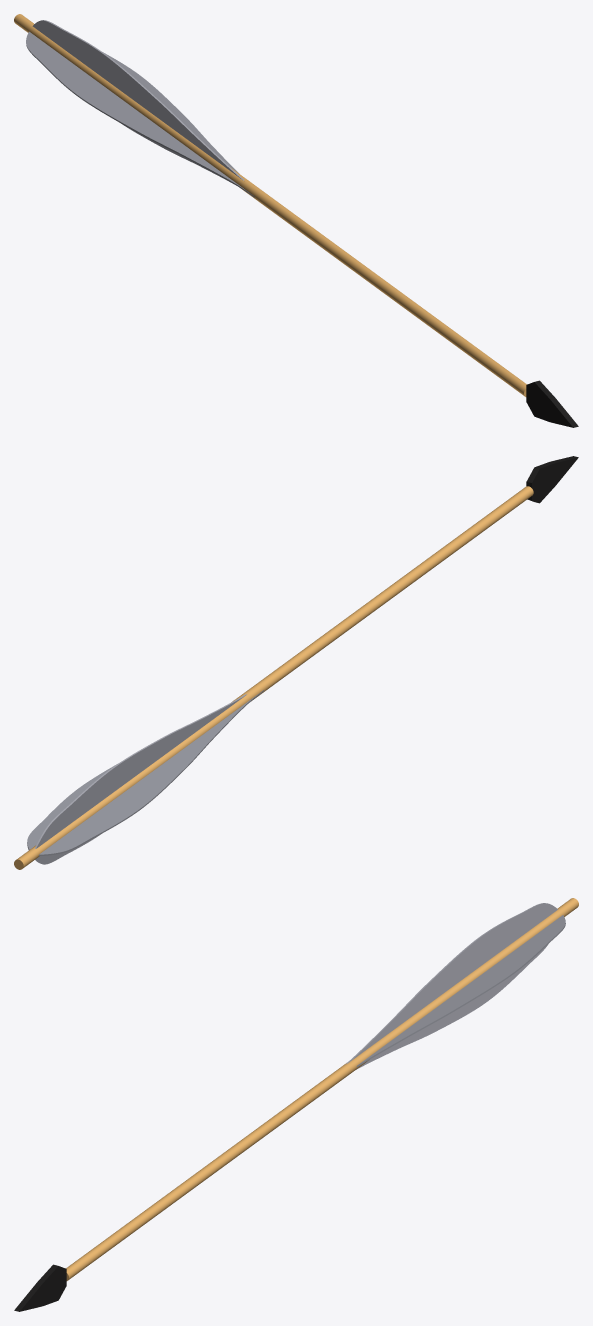
The picture shows the model from 3 angles, top to bottom: view 1: azimuth 30°, elevation 25°; view 2: azimuth 150°, elevation 25°; view 3: azimuth 330°, elevation 25°; orthographic projection.
Visible parts, largest first — view 1: wood, vane, cross_vane, point; view 2: wood, vane, cross_vane, point; view 3: wood, cross_vane, vane, point.
Boxes of the visible parts, x1,y1,x2,y2 form: wood: (14,14,526,396); vane: (26,31,254,197); cross_vane: (32,20,243,183); point: (526,380,578,427); wood: (14,486,533,869); vane: (27,690,264,855); cross_vane: (35,694,247,864); point: (526,456,578,503); wood: (66,898,578,1280); cross_vane: (345,903,557,1069); vane: (356,915,565,1066); point: (14,1264,66,1311).
Bounding box in the file's own units: 0.0439 × 0.0439 × 0.6995.
